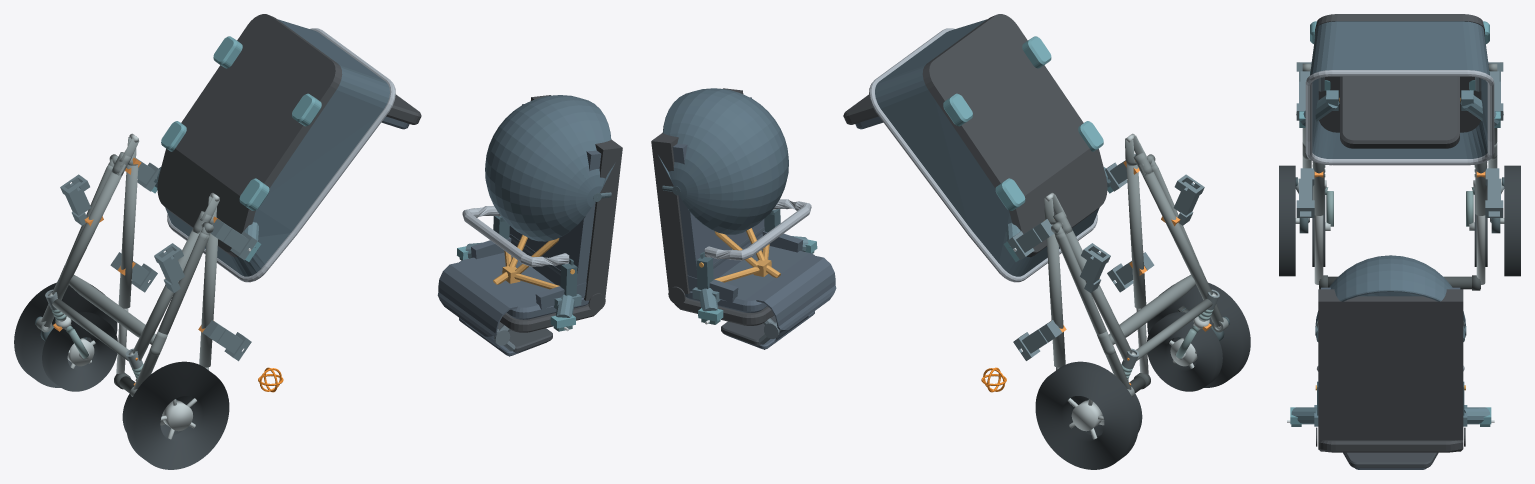
File: D20_w550_state3_wheel_M.glb
3 views of the same model, side by side, from view 1: azimuth 30°, elevation 25°; view 2: azimuth 150°, elevation 25°; view 3: azimuth 270°, elevation 25° (orthographic).
Parts seen in each view (by area): view 1: D20_Lower, D20_Upper, RL_tire.004, FR_tire.004, RR_tire.004, main_upper_1.005, main_lower_1.005, V46_rear_leg_-1.005, main_upper_-1.005, V46_rearbar.005, main_lower_-1.005, D20_Upper_Mount_H (+7 smaller); view 2: D20_Lower, D20_Upper, RR_tire.004, FL_tire.004, RL_tire.004, main_upper_-1.005, main_lower_-1.005, V46_rear_leg_1.005, main_upper_1.005, V46_rearbar.005, main_lower_1.005, D20_Upper_Mount_H (+7 smaller); view 3: D20_Upper, D20_Lower, RL_tire.004, RR_tire.004, D20_Lower_Mount_M, D20_Upper_Mount_H, Universal_Cabin_Receiver_H_1, Universal_Cabin_Receiver_H_-1, handle_slider_1.004, handle_slider_-1.004, main_upper_1.005, main_upper_-1.005 (+7 smaller).
Boxes of the visible parts, x1,y1,x2,y2 form: D20_Lower: (157, 14, 421, 282); D20_Upper: (437, 95, 622, 356); RL_tire.004: (126, 361, 229, 469); FR_tire.004: (42, 312, 117, 391); RR_tire.004: (14, 282, 117, 387); main_upper_1.005: (118, 164, 138, 308); main_lower_1.005: (52, 164, 125, 299); V46_rear_leg_-1.005: (133, 232, 209, 389); main_upper_-1.005: (199, 224, 218, 367); V46_rearbar.005: (69, 275, 155, 344); main_lower_-1.005: (132, 230, 201, 360); D20_Upper_Mount_H: (457, 242, 581, 331); D20_Lower: (843, 14, 1107, 282); D20_Upper: (651, 88, 836, 349); RR_tire.004: (1035, 361, 1138, 469); FL_tire.004: (1147, 312, 1222, 391); RL_tire.004: (1147, 282, 1250, 387); main_upper_-1.005: (1126, 164, 1146, 308); main_lower_-1.005: (1139, 164, 1212, 299); V46_rear_leg_1.005: (1055, 232, 1131, 389); main_upper_1.005: (1046, 224, 1065, 367); V46_rearbar.005: (1109, 275, 1195, 344); main_lower_1.005: (1063, 229, 1132, 360); D20_Upper_Mount_H: (692, 236, 817, 324); D20_Upper: (1315, 255, 1466, 469); D20_Lower: (1305, 14, 1494, 165); RL_tire.004: (1279, 165, 1295, 276); RR_tire.004: (1504, 165, 1520, 276); D20_Lower_Mount_M: (1296, 90, 1503, 127); D20_Upper_Mount_H: (1287, 405, 1494, 426); Universal_Cabin_Receiver_H_1: (1485, 168, 1503, 217); Universal_Cabin_Receiver_H_-1: (1296, 168, 1314, 217); handle_slider_1.004: (1476, 215, 1485, 284); handle_slider_-1.004: (1314, 215, 1323, 284); main_upper_1.005: (1475, 161, 1486, 215); main_upper_-1.005: (1313, 161, 1324, 215).
Bounding box in the file's own units: 1.63 × 1.04 × 0.656.
